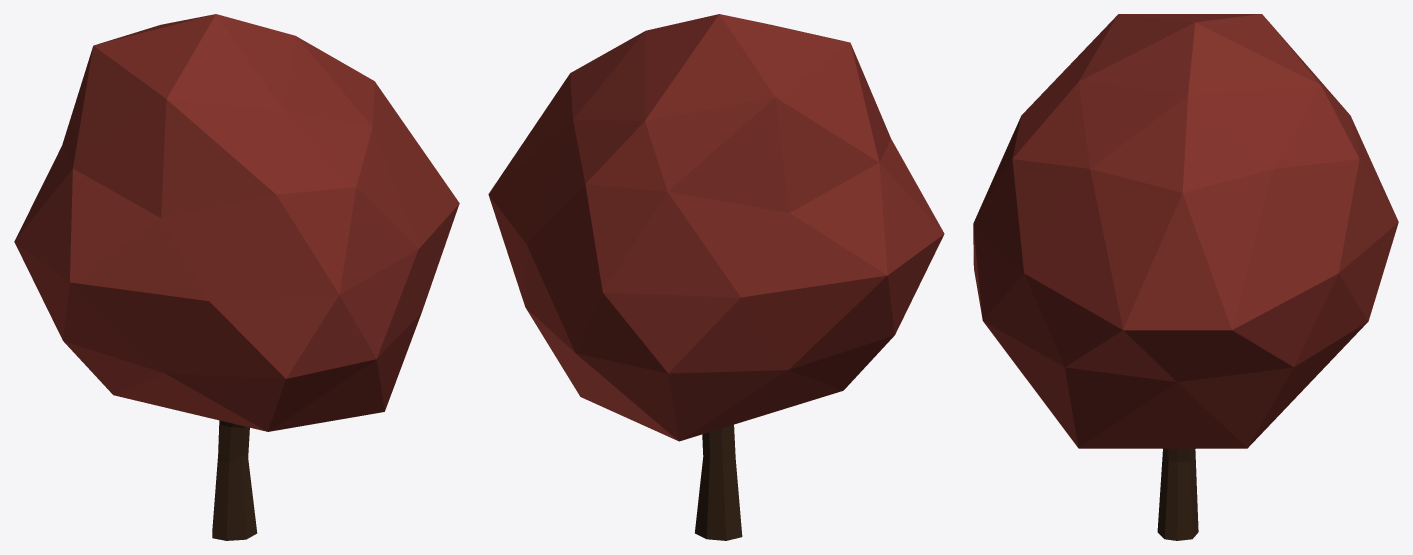
Rendered from Tree_58_Red.fbx.
3 views of the same model, side by side, from view 1: azimuth 30°, elevation 25°; view 2: azimuth 150°, elevation 25°; view 3: azimuth 270°, elevation 25° (orthographic). The views are drawn at different scales.
Visible parts, largest first — view 1: Tree_58_Red_Part_1, Tree_58_Red_Part_2; view 2: Tree_58_Red_Part_1, Tree_58_Red_Part_2; view 3: Tree_58_Red_Part_1, Tree_58_Red_Part_2.
Boxes of the visible parts, <box> form: Tree_58_Red_Part_1: <box>14,14,459,431</box>; Tree_58_Red_Part_2: <box>212,420,257,540</box>; Tree_58_Red_Part_1: <box>488,14,944,441</box>; Tree_58_Red_Part_2: <box>695,424,742,540</box>; Tree_58_Red_Part_1: <box>973,14,1398,448</box>; Tree_58_Red_Part_2: <box>1157,448,1198,540</box>.
Size of the model in its own units: 627 by 791 by 604.
